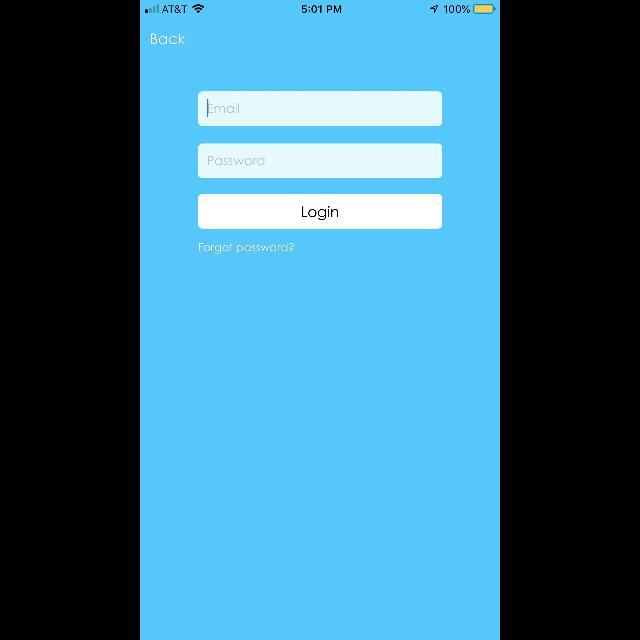input: (198, 144, 442, 178), (198, 92, 442, 126)
text: (200, 243, 294, 254), (208, 156, 266, 166), (151, 34, 185, 44), (208, 103, 240, 113)
textbutton: (198, 194, 442, 228)
uppertaskbar: (140, 0, 500, 14)
